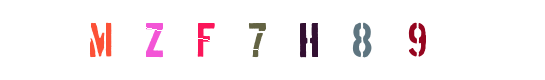7: (233, 0, 313, 80)
8: (283, 0, 363, 80)
9: (377, 0, 457, 80)
F: (221, 0, 301, 80)
H: (269, 0, 349, 80)
M: (108, 0, 188, 80)
Z: (115, 0, 195, 80)
